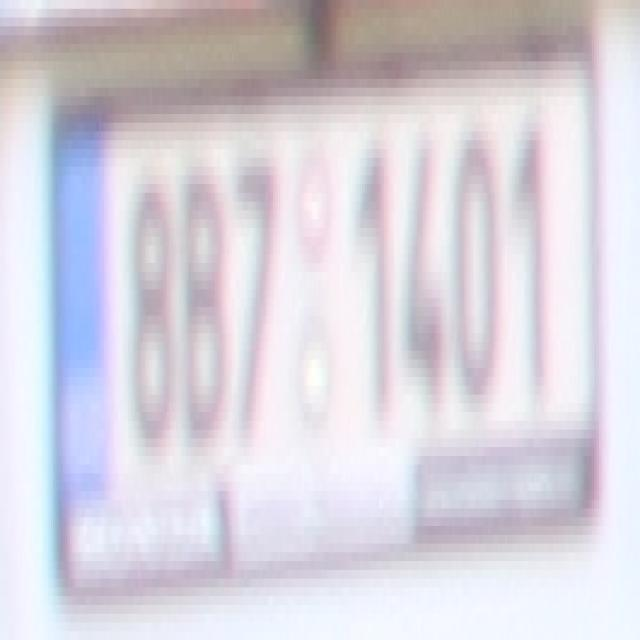0: (454, 96, 502, 394)
1: (352, 131, 393, 421), (512, 123, 551, 394)
4: (406, 123, 447, 421)
7: (232, 149, 278, 456)
8: (133, 166, 174, 438)
B: (181, 149, 230, 456)
